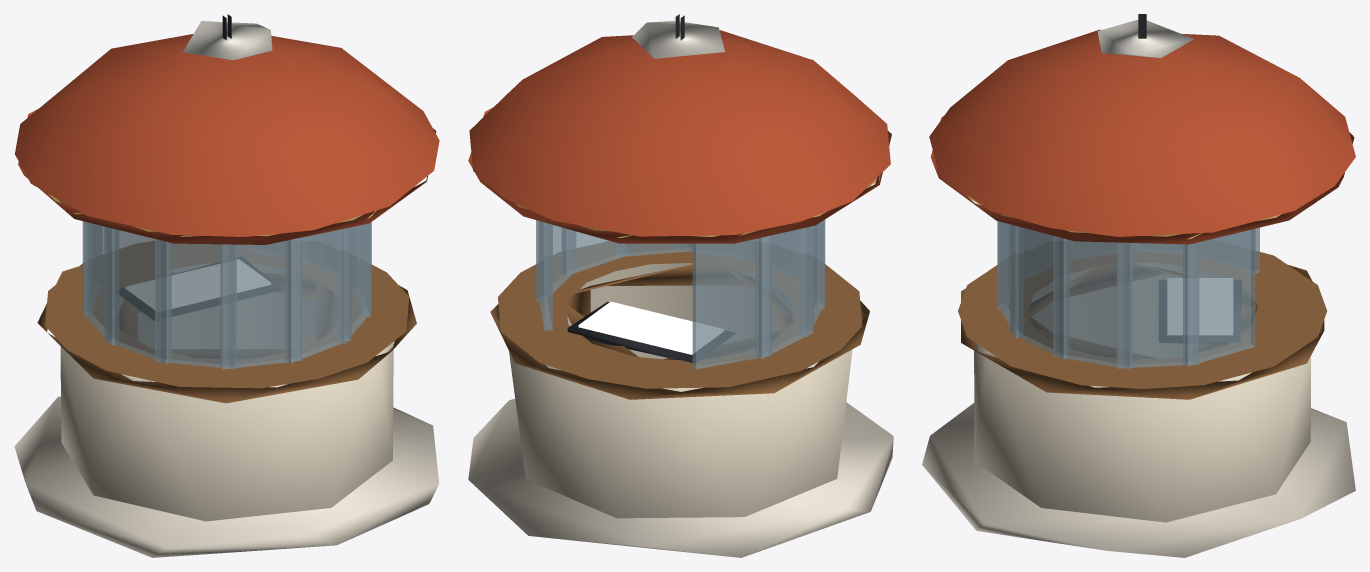
The model's file is lod_info_kiosk.glb.
3 views of the same model, side by side, from view 1: azimuth 30°, elevation 25°; view 2: azimuth 150°, elevation 25°; view 3: azimuth 270°, elevation 25° (orthographic).
Visible parts, largest first — view 1: info_kiosk; view 2: info_kiosk; view 3: info_kiosk.
Boxes of the visible parts, x1,y1,x2,y2 form: info_kiosk: [14, 14, 439, 557]; info_kiosk: [468, 14, 893, 557]; info_kiosk: [922, 14, 1355, 557].
Size of the model in its own units: 2.66 by 3.06 by 2.63.
